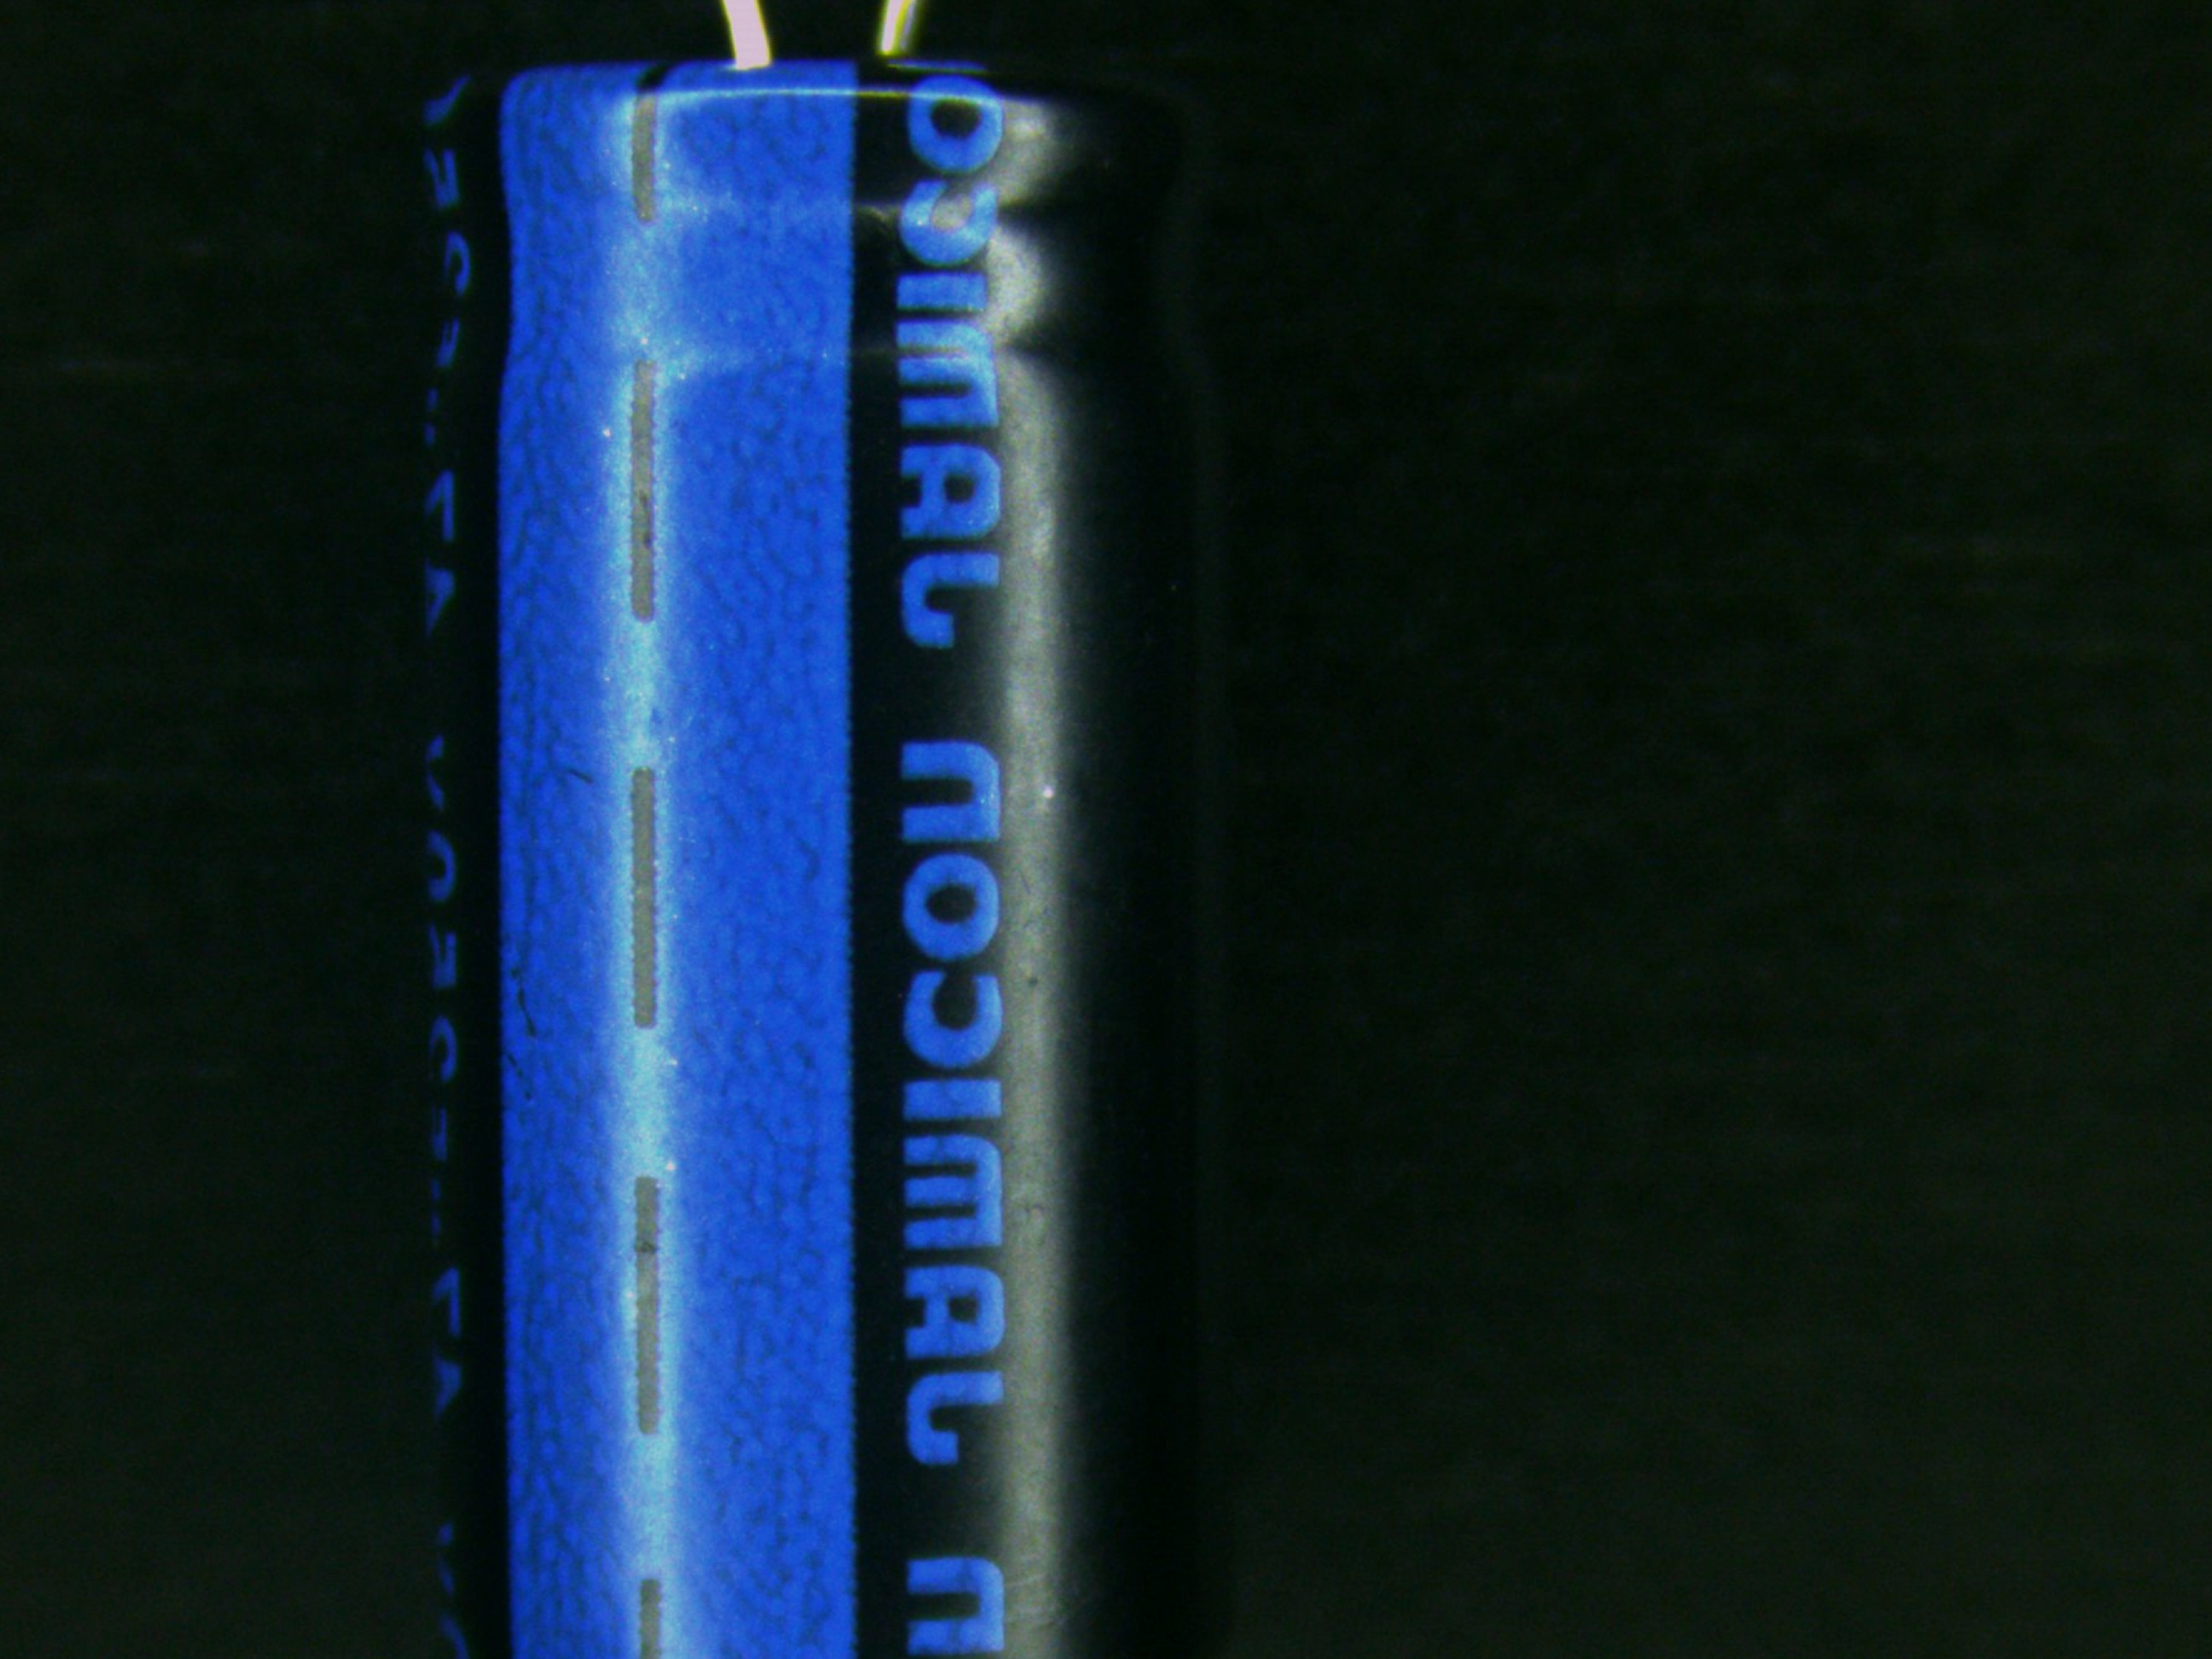c2: (409, 0, 1237, 1659)
